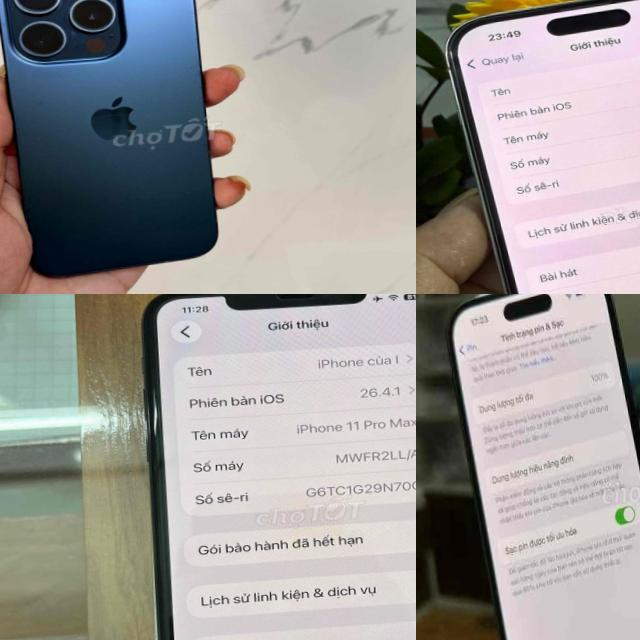gen_11: (143, 294, 416, 640)
gen_14: (427, 0, 640, 294)
gen_15: (0, 0, 238, 290)
